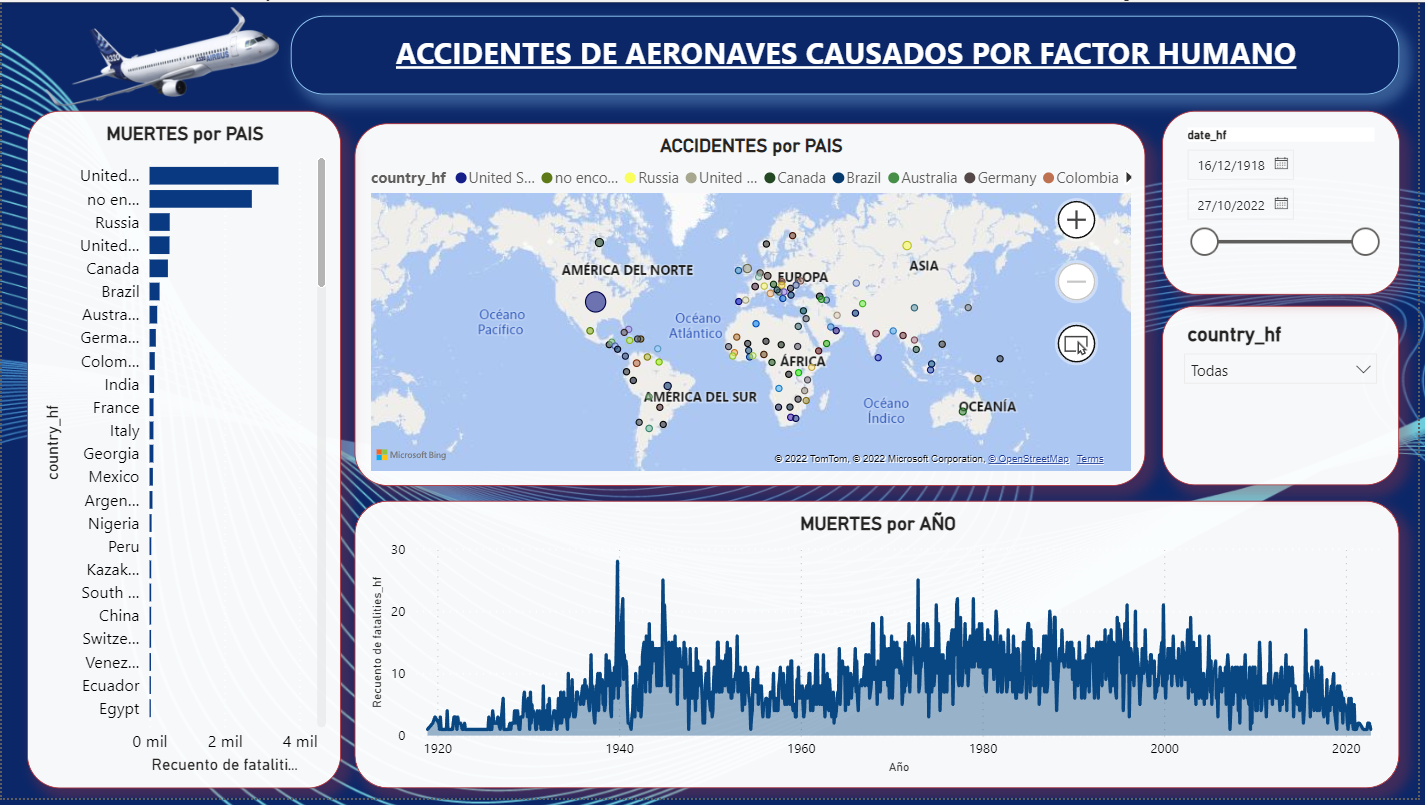

Layout of this report page (visuals, bound fields, positions):
{"tool":"powerbi","page":{"name":"Factor Humano","canvas":[1280,720],"ordinal":2},"visuals":[{"type":"map","title":"ACCIDENTES por PAIS","fields":{"Size":["CountNonNull(avionesdb humanfactor_ok.id_accidentes_ok_fk)"],"Series":["avionesdb humanfactor_ok.country_hf"],"Category":["avionesdb humanfactor_ok.country_hf"]},"box":[318.7,109.6,715.5,327.8],"z":0},{"type":"barChart","title":"MUERTES por PAIS","fields":{"Y":["CountNonNull(avionesdb humanfactor_ok.fatalities_hf)"],"Category":["avionesdb humanfactor_ok.country_hf"]},"box":[22.5,98.8,283.8,612.5],"z":1000},{"type":"areaChart","title":"MUERTES por AÑO","fields":{"Category":["avionesdb humanfactor_ok.date_hf.Variación.Jerarquía de fechas.Año","avionesdb humanfactor_ok.date_hf.Variación.Jerarquía de fechas.Mes"],"Y":["CountNonNull(avionesdb humanfactor_ok.fatalities_hf)"]},"box":[318.7,451,944.9,260],"z":2000},{"type":"slicer","fields":{"Values":["avionesdb humanfactor_ok.country_hf"]},"box":[1048.9,274.7,214.8,162.8],"z":3000},{"type":"slicer","fields":{"Values":["avionesdb humanfactor_ok.date_hf"]},"box":[1048.8,98.8,215,166.2],"z":4000},{"type":"textbox","box":[261.2,12.5,1002.5,71.2],"z":5000},{"type":"image","box":[0,0,288.8,98.8],"z":6000}]}

Visuals, with their boxes in screenshot pixels (x1, y1, x2, y2), scaled from the page's 1280x720 canvas onto the 1425x805 screenshot:
"ACCIDENTES por PAIS" map: left=355, top=123, right=1151, bottom=489
"MUERTES por PAIS" barChart: left=25, top=110, right=341, bottom=795
"MUERTES por AÑO" areaChart: left=355, top=504, right=1407, bottom=795
slicer - avionesdb humanfactor_ok.country_hf: left=1168, top=307, right=1407, bottom=489
slicer - avionesdb humanfactor_ok.date_hf: left=1168, top=110, right=1407, bottom=296
textbox: left=291, top=14, right=1407, bottom=94
image: left=0, top=0, right=322, bottom=110
